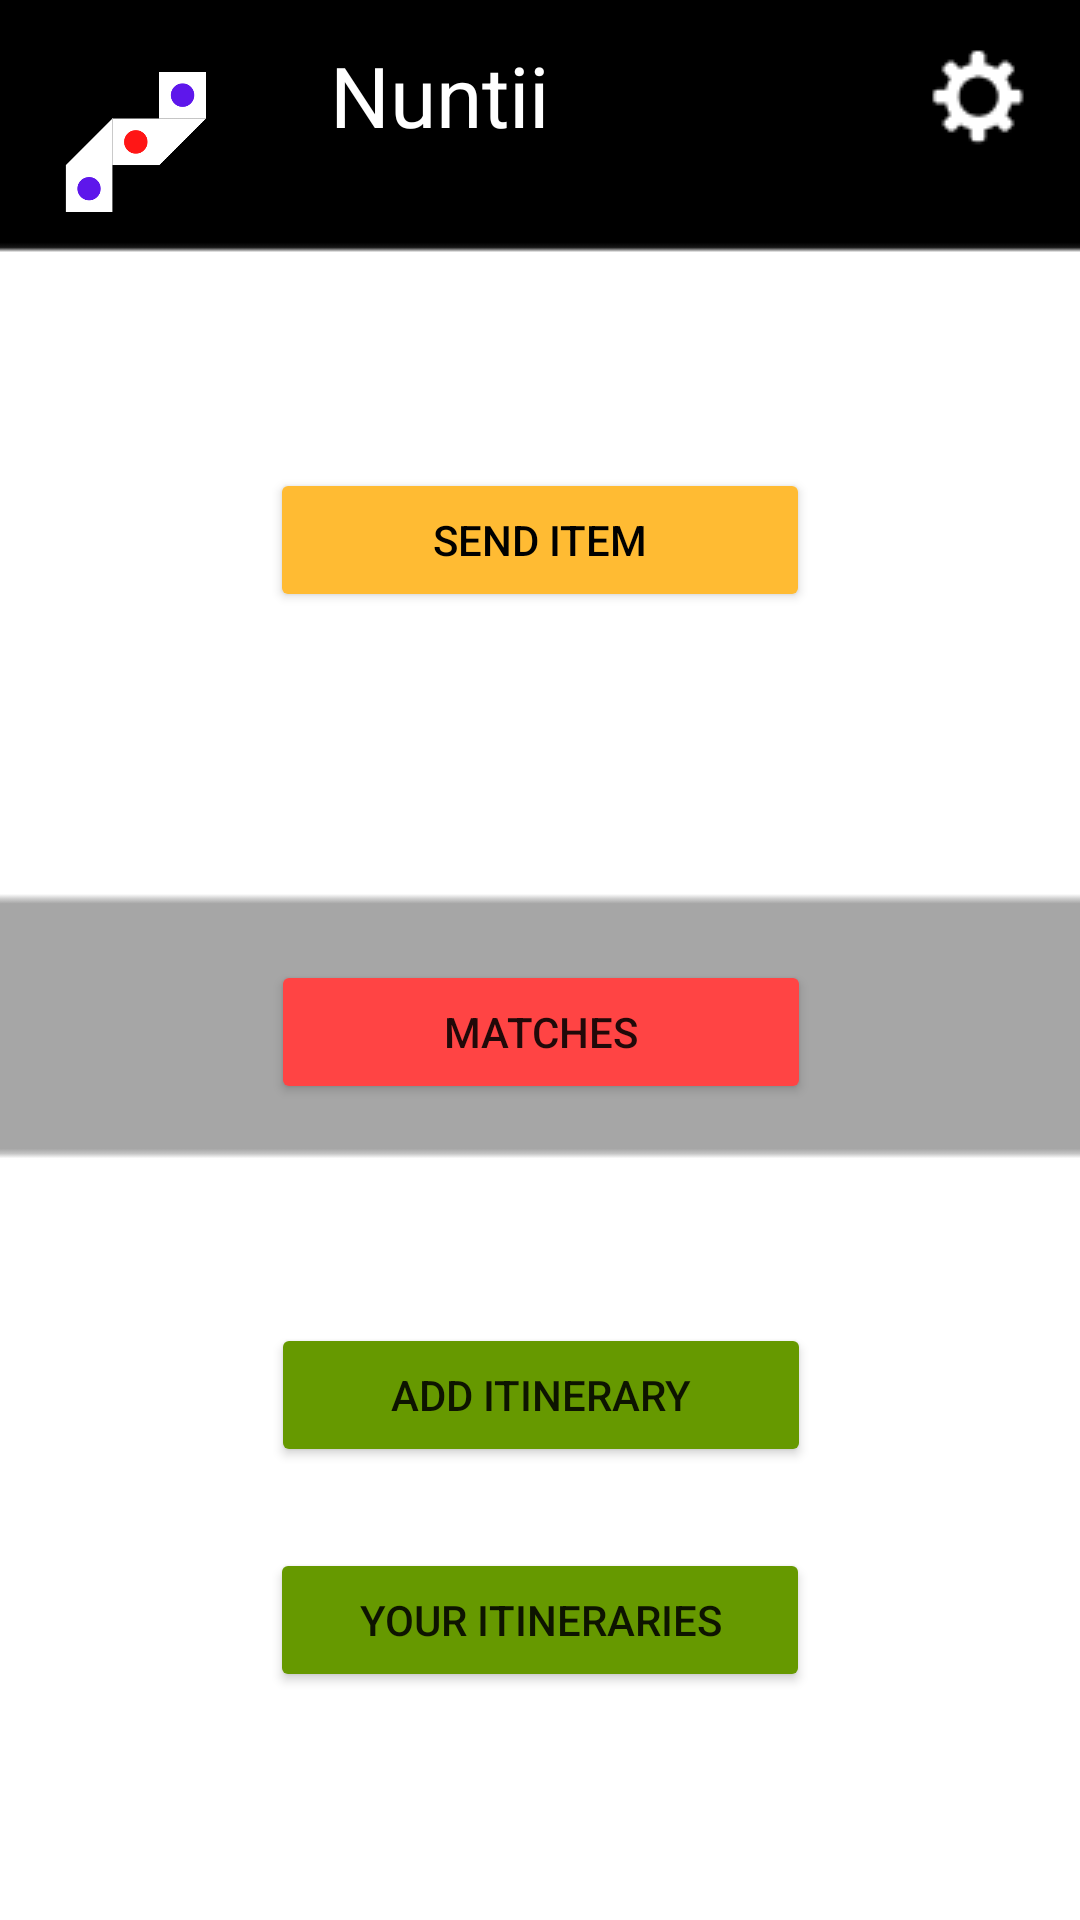

Where to tap for icons on this 1080x1920 app screen, as point (x, y):
settings: point (978, 97)
